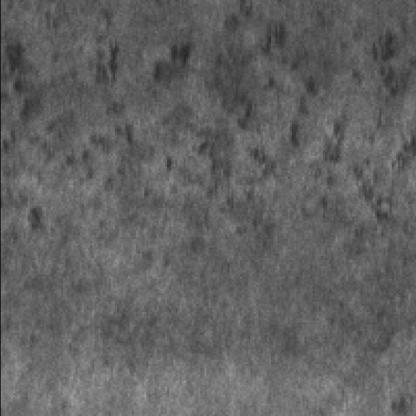rolled-in_scale: (141, 4, 412, 208), (0, 29, 160, 178)
